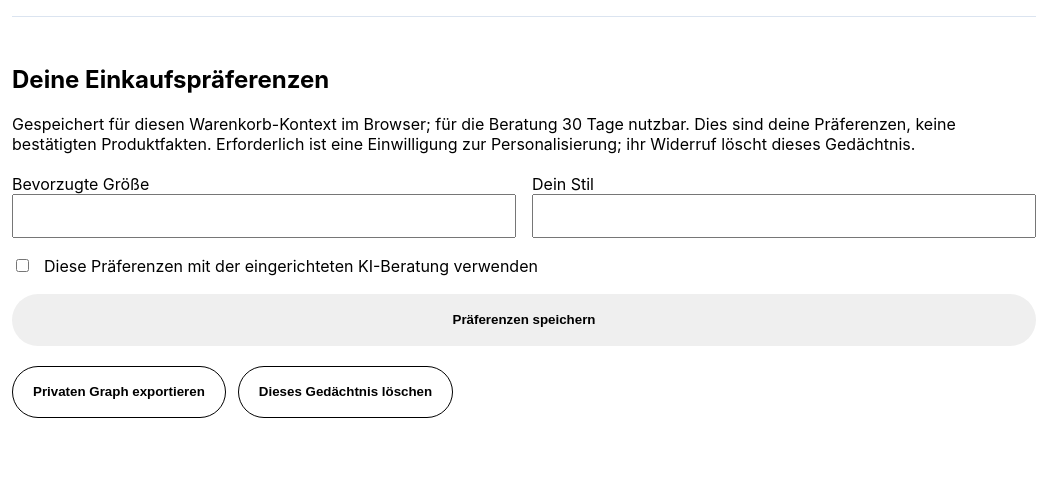
Scenario: Private shopping preferences › keeps sharing off by default, retains other graph data and reports stale revisions
Expected: the checkbox is not checked, [16,259,29,272]
Type "M" into the field labelled "Bevorzugte Größe" at x=264, y=216, box [12,194,516,238]
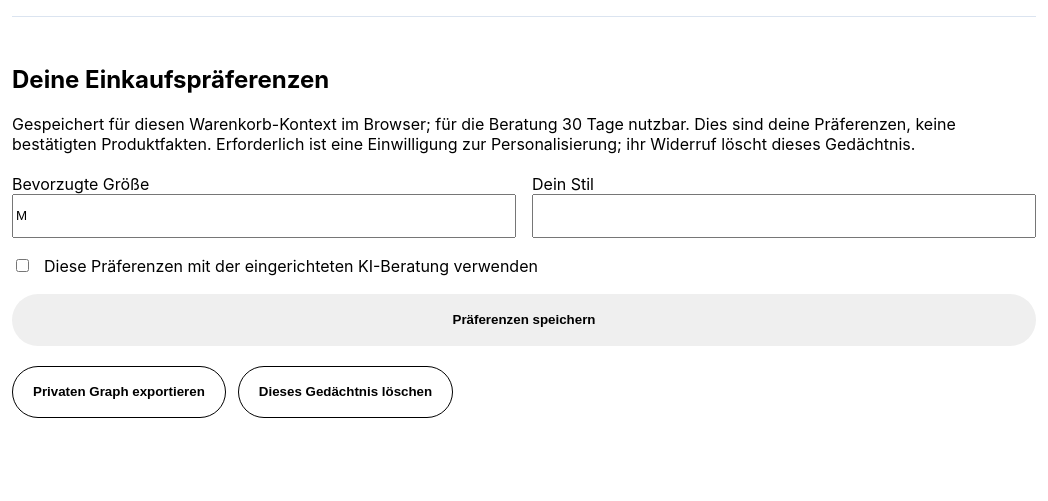
Click the button "Präferenzen speichern" at x=524, y=320, box [12,294,1036,346]
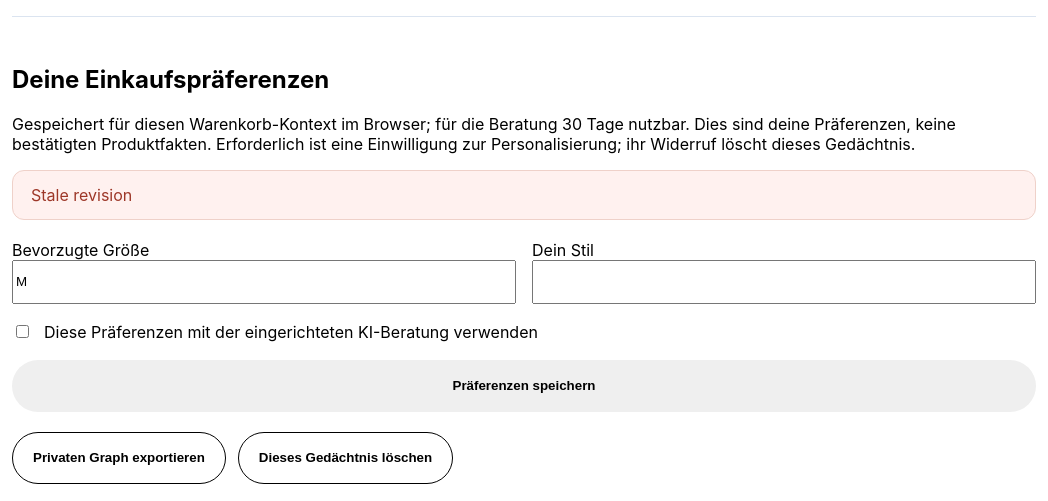
Expected: the message reads "Stale revision", [31,185,132,205]
